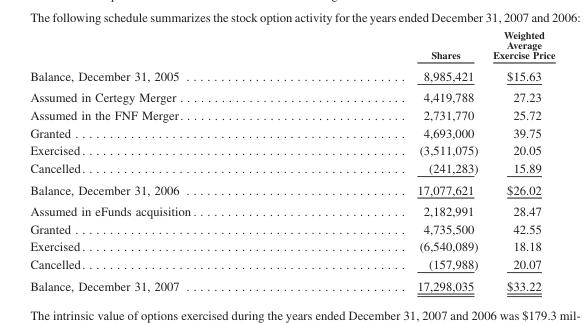table: (29, 28, 554, 292)
table column: (29, 28, 306, 292), (306, 28, 484, 292), (484, 28, 554, 292)
table column header: (29, 28, 554, 64)
table row: (29, 28, 554, 64), (29, 64, 554, 86), (29, 178, 554, 200), (29, 86, 554, 105), (29, 159, 554, 178), (29, 200, 554, 219), (29, 255, 554, 274), (29, 105, 554, 123), (29, 123, 554, 141), (29, 141, 554, 159), (29, 219, 554, 237), (29, 237, 554, 255), (29, 274, 554, 292)
